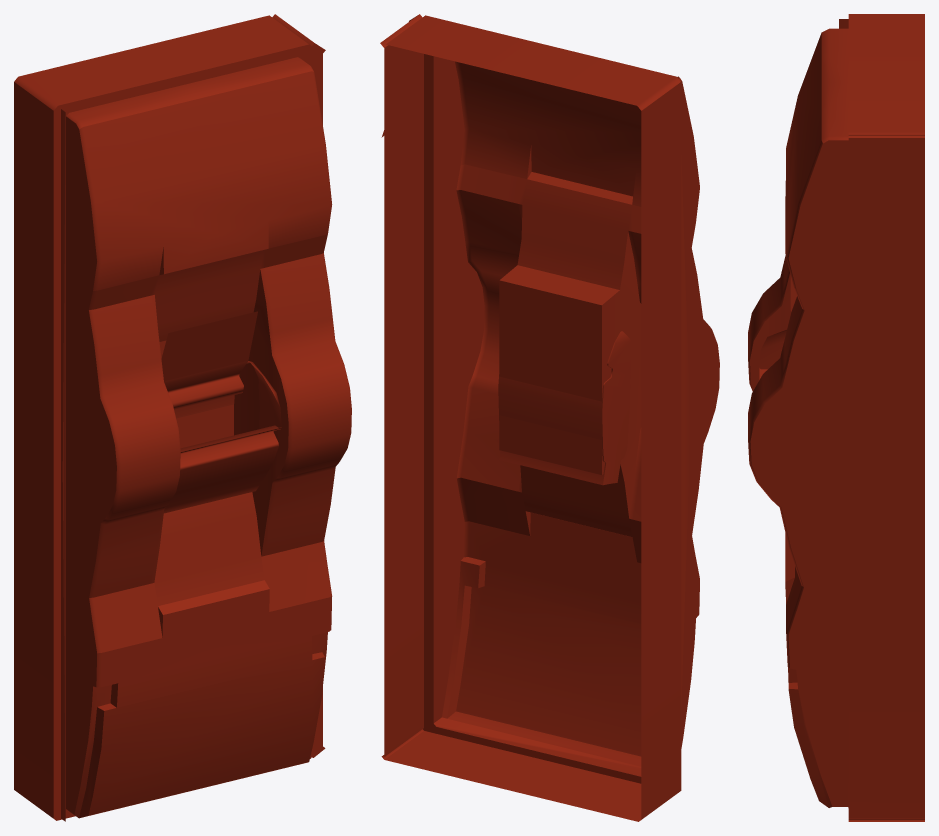
File: SwitchPanneauFinal.fbx
3 renders of one model, left to right at view 1: azimuth 30°, elevation 25°; view 2: azimuth 150°, elevation 25°; view 3: azimuth 270°, elevation 25°, orthographic. The views are drawn at different scales.
Parts seen in each view (by area): view 1: power_box_01_box; view 2: power_box_01_box; view 3: power_box_01_box.
Boxes of the visible parts, bbox=[...] form: power_box_01_box: bbox=[14, 14, 351, 821]; power_box_01_box: bbox=[380, 14, 719, 821]; power_box_01_box: bbox=[748, 14, 924, 821].
Size of the model in its own units: 16.16 by 40.53 by 9.45.
